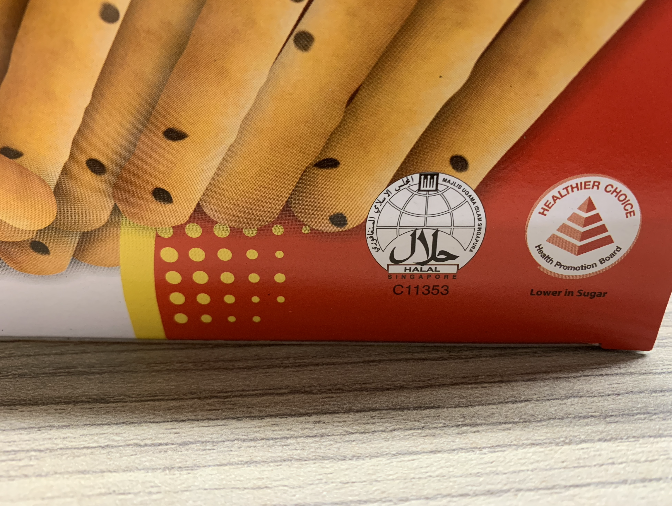halal: (378, 185, 473, 293)
